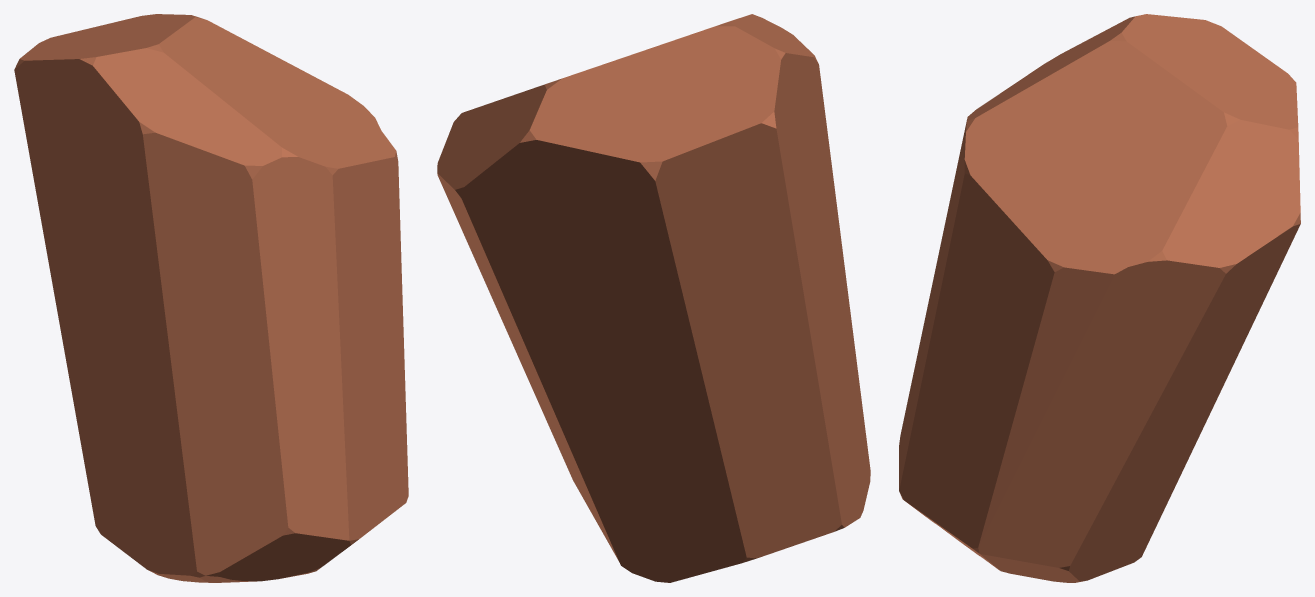
Rendered from Rock_02.fbx.
The picture shows the model from 3 angles, left to right: view 1: azimuth 30°, elevation 25°; view 2: azimuth 150°, elevation 25°; view 3: azimuth 270°, elevation 25°; orthographic projection. The views are drawn at different scales.
Visible parts, largest first — view 1: Rock_02; view 2: Rock_02; view 3: Rock_02.
Part boxes in pixels (<box>): Rock_02: <box>14,14,408,582</box>; Rock_02: <box>437,14,870,582</box>; Rock_02: <box>899,14,1300,582</box>.
Bounding box in the file's own units: 355 × 548 × 402.
